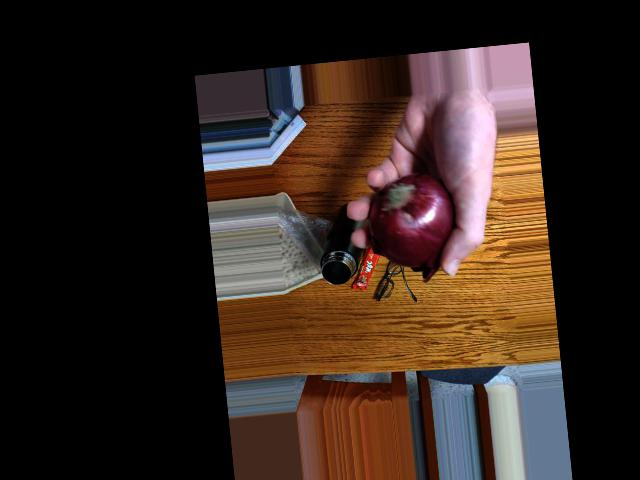onion: (367, 175, 457, 268)
